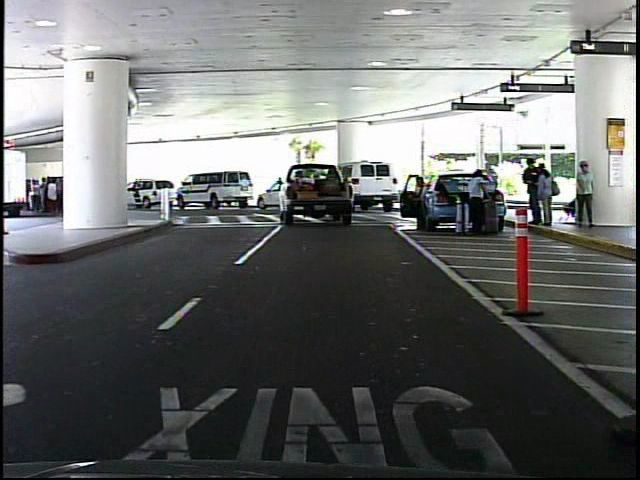person: (459, 167, 492, 241), (532, 161, 561, 236), (569, 159, 597, 235), (405, 166, 435, 231)
